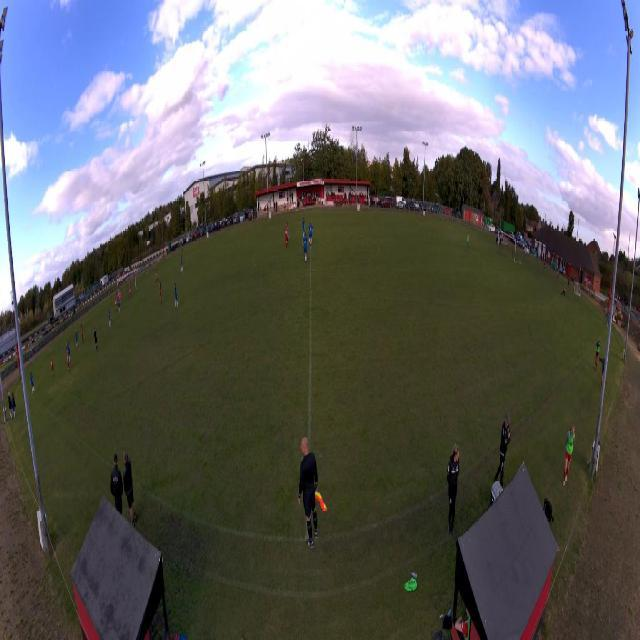player: (302, 232, 308, 263), (93, 327, 99, 353), (308, 221, 314, 246), (300, 218, 306, 240), (30, 373, 36, 395), (66, 340, 72, 362), (284, 226, 289, 250), (174, 282, 178, 310), (66, 346, 70, 371), (159, 282, 163, 306), (107, 306, 111, 330), (51, 357, 55, 381), (286, 222, 290, 243), (80, 323, 84, 344), (75, 329, 79, 350), (114, 295, 118, 315), (117, 297, 121, 314), (466, 231, 469, 252), (129, 283, 132, 301), (180, 255, 183, 273), (155, 267, 158, 284), (119, 290, 122, 305), (110, 309, 112, 324)
